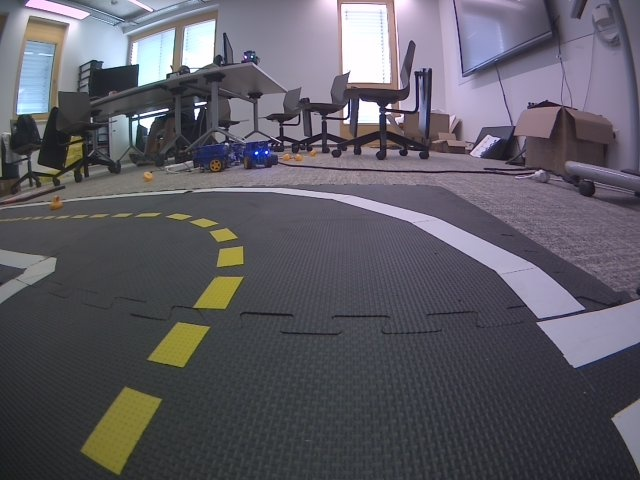Bot: (192, 144, 231, 173), (241, 138, 272, 171), (241, 50, 259, 66)
